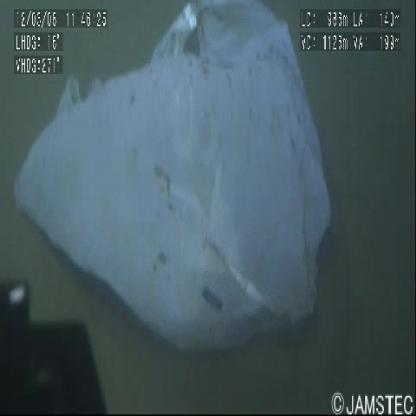Rov: (1, 271, 111, 416)
Rác: (12, 2, 342, 359)
